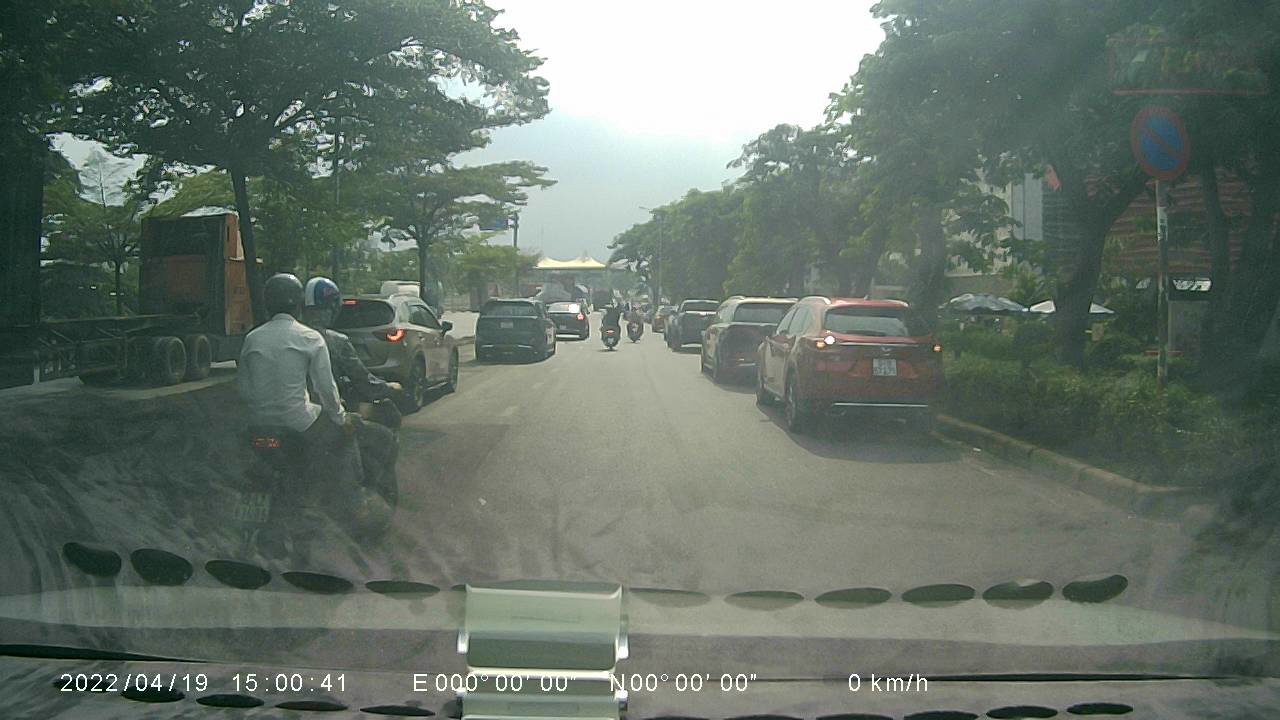Cam do xe: (1129, 102, 1196, 185)
